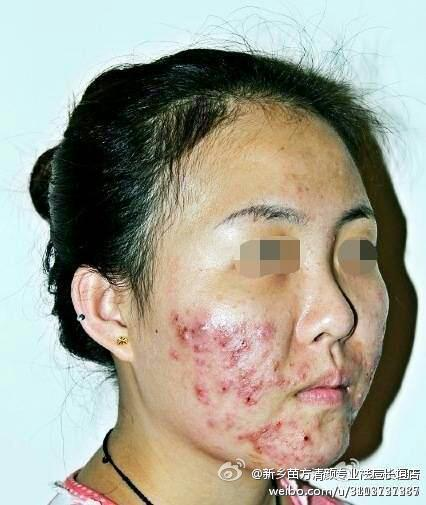fore: (255, 315, 275, 344), (178, 321, 197, 350), (295, 356, 314, 378), (232, 362, 252, 382), (234, 425, 250, 450), (196, 396, 217, 415), (187, 375, 205, 397), (300, 418, 319, 438), (230, 337, 252, 354), (209, 319, 228, 338), (192, 336, 207, 360), (301, 442, 319, 462), (267, 410, 283, 430), (242, 391, 258, 410), (236, 379, 256, 394), (166, 340, 179, 363), (223, 349, 241, 365), (215, 336, 231, 354), (168, 308, 184, 325), (214, 374, 230, 391), (279, 447, 293, 466), (228, 323, 246, 337), (197, 316, 208, 337), (278, 370, 291, 387), (256, 440, 270, 454), (204, 415, 214, 429)
